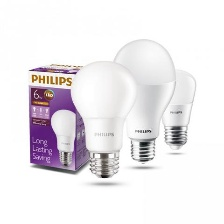carton: (26, 59, 99, 175)
light_bulb: (102, 37, 181, 168), (66, 56, 143, 181), (151, 63, 198, 156)
